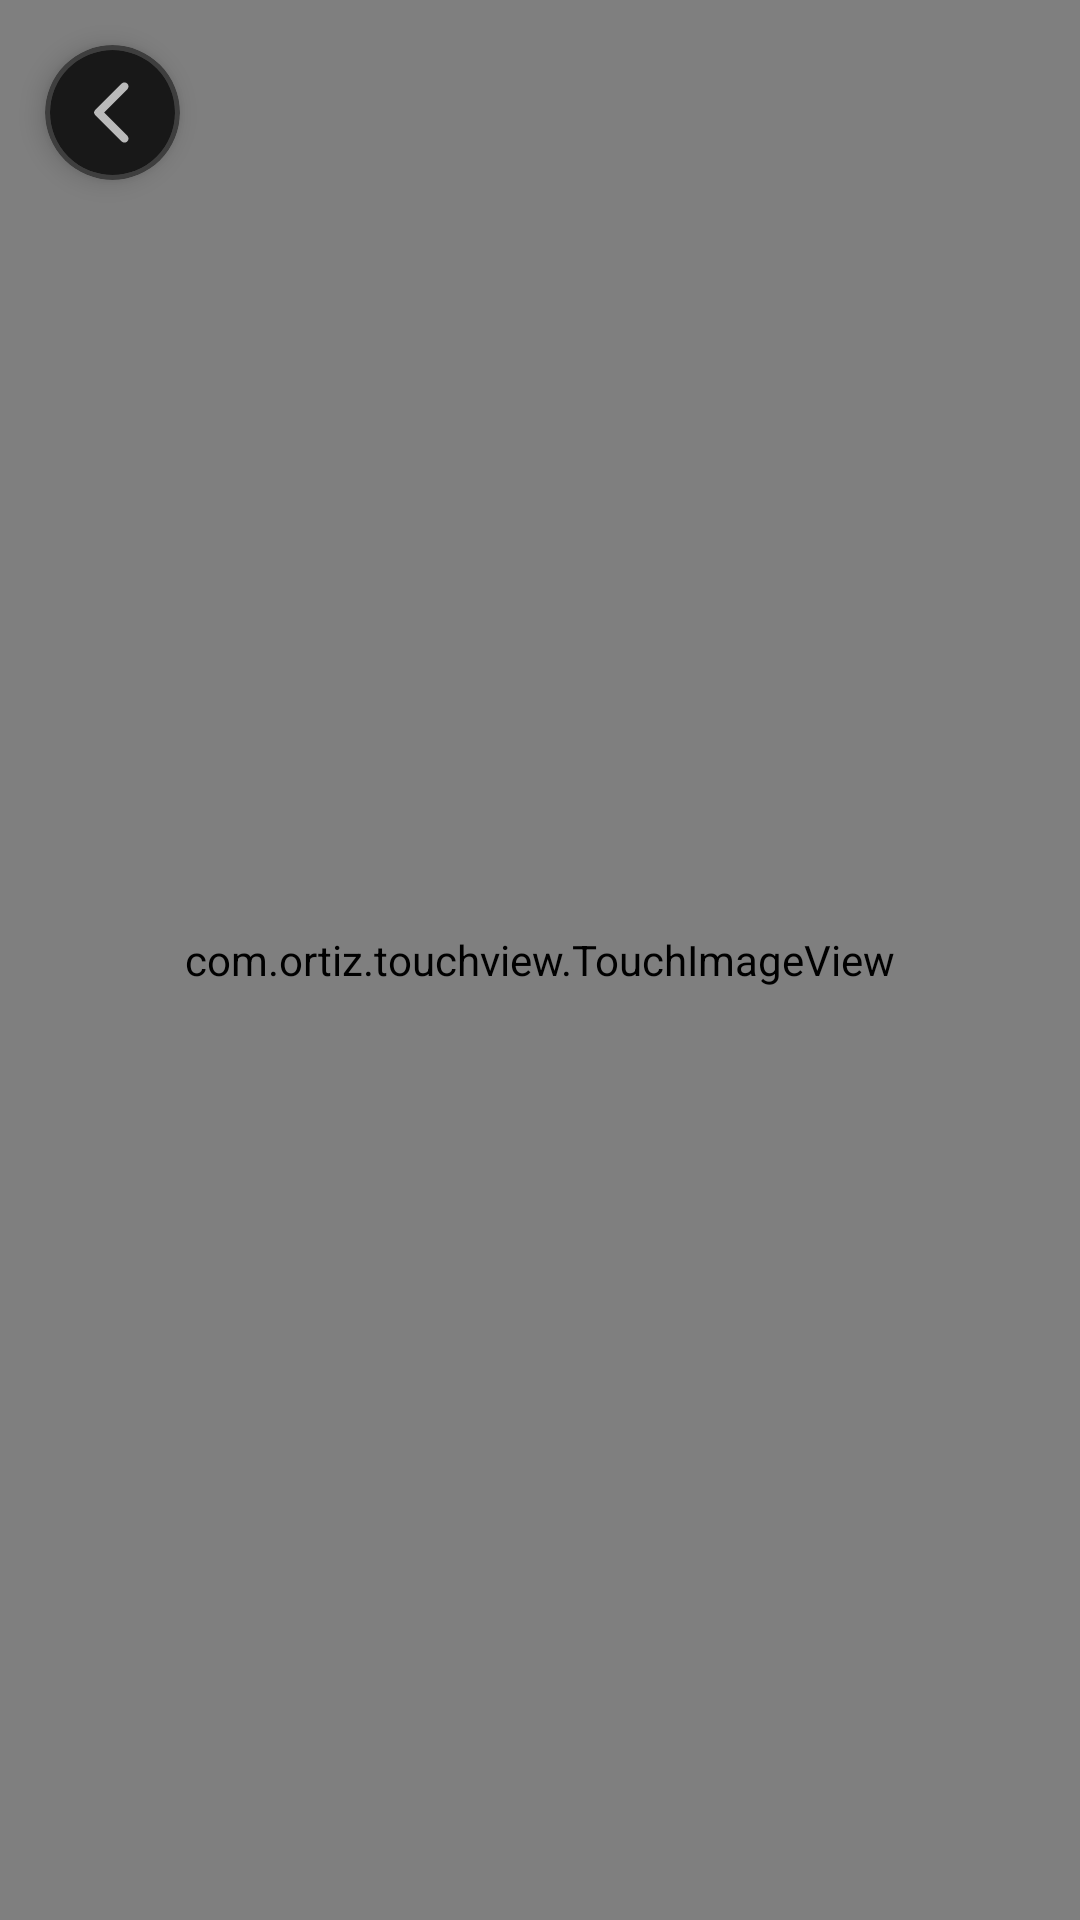

Screen size 1080px x 1920px. Icon name, then its box in pixels as [x1=x1, y1=y1, x2=x2, y2=y2]:
back: [x1=94, y1=82, x2=129, y2=143]
